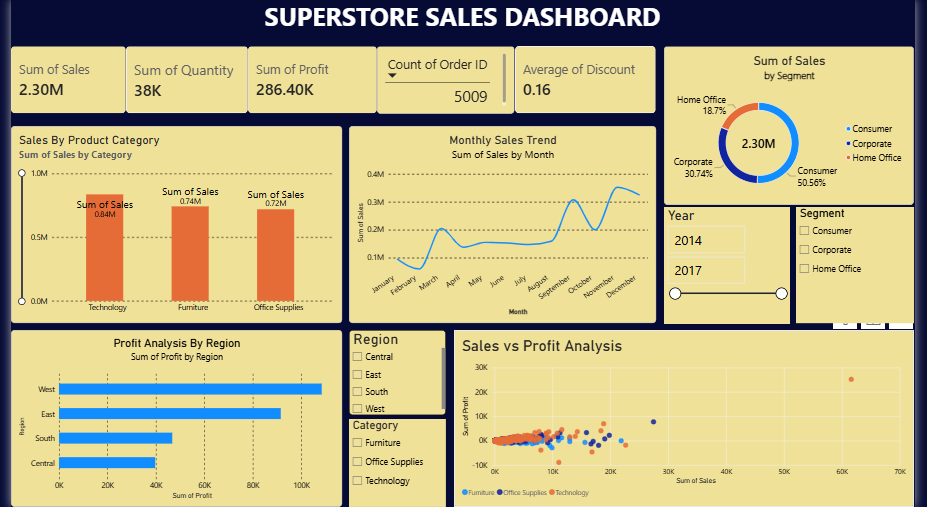

Layout of this report page (visuals, bound fields, positions):
{"tool":"powerbi","page":{"name":"Dashboard","canvas":[1920,1080],"ordinal":0},"visuals":[{"type":"cardVisual","fields":{"Data":["Sum(Superstore_Dataset.Sales)"]},"box":[0,100.8,244.4,143.6],"z":0},{"type":"cardVisual","fields":{"Data":["Sum(Superstore_Dataset.Profit)"]},"box":[503.9,100.8,274.6,143.6],"z":1000},{"type":"tableEx","fields":{"Values":["Superstore_Dataset.Order ID"]},"box":[778.6,100.8,292.3,143.6],"z":2000},{"type":"cardVisual","fields":{"Data":["Sum(Superstore_Dataset.Quantity)"]},"box":[244.5,99.9,259.5,143.6],"z":3000},{"type":"clusteredColumnChart","title":"Sales By Product Category","fields":{"Category":["Superstore_Dataset.Category"],"Y":["Sum(Superstore_Dataset.Sales)"]},"box":[0,270,703.7,418.8],"z":4000},{"type":"donutChart","fields":{"Category":["Superstore_Dataset.Segment"],"Y":["Sum(Superstore_Dataset.Sales)"]},"box":[1388.3,99.9,531.5,338],"z":5000},{"type":"lineChart","title":"Monthly Sales Trend","fields":{"Category":["Superstore_Dataset.Order Date.Variation.Date Hierarchy.Year","Superstore_Dataset.Order Date.Variation.Date Hierarchy.Month"],"Y":["Sum(Superstore_Dataset.Sales)"]},"box":[718.6,270,652.7,418.8],"z":6000},{"type":"textbox","box":[0,0,1920,100.8],"z":7000},{"type":"cardVisual","fields":{"Data":["Avg(Superstore_Dataset.Discount)"]},"box":[1071.5,99.9,299.8,144.6],"z":8000},{"type":"clusteredBarChart","title":"Profit Analysis By Region ","fields":{"Category":["Superstore_Dataset.Region"],"Y":["Sum(Superstore_Dataset.Profit)"]},"box":[0,703.7,703.7,376.3],"z":9000},{"type":"slicer","fields":{"Values":["Superstore_Dataset.Region"]},"box":[718.6,703.7,206.2,180.7],"z":10000},{"type":"slicer","fields":{"Values":["Superstore_Dataset.Category"]},"box":[718.6,892.9,206.2,187.1],"z":11000},{"type":"slicer","fields":{"Values":["Superstore_Dataset.Order Date.Variation.Date Hierarchy.Year"]},"box":[1388.3,442.2,265.7,246.6],"z":12000},{"type":"scatterChart","title":"Sales vs Profit Analysis","fields":{"Category":["Superstore_Dataset.Product Name"],"Series":["Superstore_Dataset.Category"],"X":["Sum(Superstore_Dataset.Sales)"],"Y":["Sum(Superstore_Dataset.Profit)"]},"box":[941.8,703.7,978,376.3],"z":13000},{"type":"slicer","fields":{"Values":["Superstore_Dataset.Segment"]},"box":[1668.9,442.2,250.9,246.6],"z":13001}]}

Visuals, with their boxes in screenshot pixels (x1, y1, x2, y2), scaled from the page's 1920x1080 canvas onto the 927x507 screenshot:
cardVisual - Sum(Superstore_Dataset.Sales): x1=0 y1=47 x2=118 y2=115
cardVisual - Sum(Superstore_Dataset.Profit): x1=243 y1=47 x2=376 y2=115
tableEx - Superstore_Dataset.Order ID: x1=376 y1=47 x2=517 y2=115
cardVisual - Sum(Superstore_Dataset.Quantity): x1=118 y1=47 x2=243 y2=114
"Sales By Product Category" clusteredColumnChart: x1=0 y1=127 x2=340 y2=323
donutChart - Superstore_Dataset.Segment x Sum(Superstore_Dataset.Sales): x1=670 y1=47 x2=926 y2=206
"Monthly Sales Trend" lineChart: x1=347 y1=127 x2=662 y2=323
textbox: x1=0 y1=0 x2=926 y2=47
cardVisual - Avg(Superstore_Dataset.Discount): x1=517 y1=47 x2=662 y2=115
"Profit Analysis By Region " clusteredBarChart: x1=0 y1=330 x2=340 y2=506
slicer - Superstore_Dataset.Region: x1=347 y1=330 x2=447 y2=415
slicer - Superstore_Dataset.Category: x1=347 y1=419 x2=447 y2=506
slicer - Superstore_Dataset.Order Date.Variation.Date Hierarchy.Year: x1=670 y1=208 x2=799 y2=323
"Sales vs Profit Analysis" scatterChart: x1=455 y1=330 x2=926 y2=506
slicer - Superstore_Dataset.Segment: x1=806 y1=208 x2=926 y2=323
